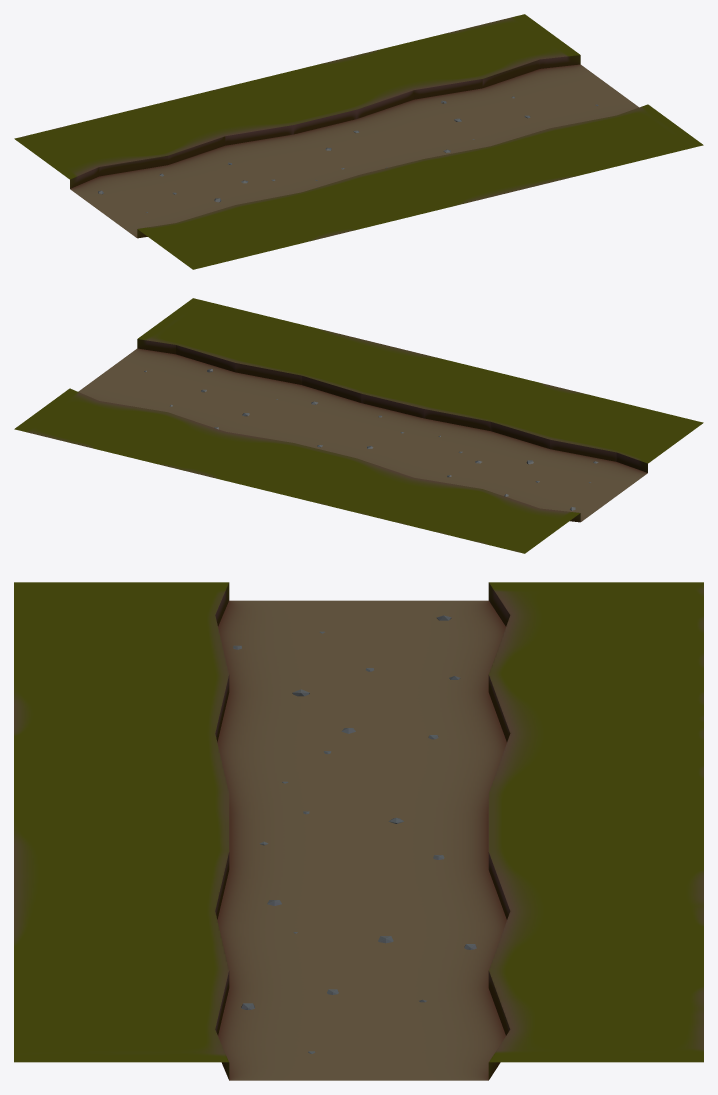
Rendered from yerO3.fbx.
3 renders of one model, top to bottom at view 1: azimuth 30°, elevation 25°; view 2: azimuth 150°, elevation 25°; view 3: azimuth 270°, elevation 25°, orthographic. The views are drawn at different scales.
Parts seen in each view (by area): view 1: Plane.006; view 2: Plane.006; view 3: Plane.006.
Boxes of the visible parts, bbox=[...] form: Plane.006: bbox=[14, 14, 703, 269]; Plane.006: bbox=[14, 298, 703, 553]; Plane.006: bbox=[14, 582, 703, 1080].
Bounding box in the file's own units: 2197 × 57.93 × 1335.
Materials: 1 (1 with a texture image).
